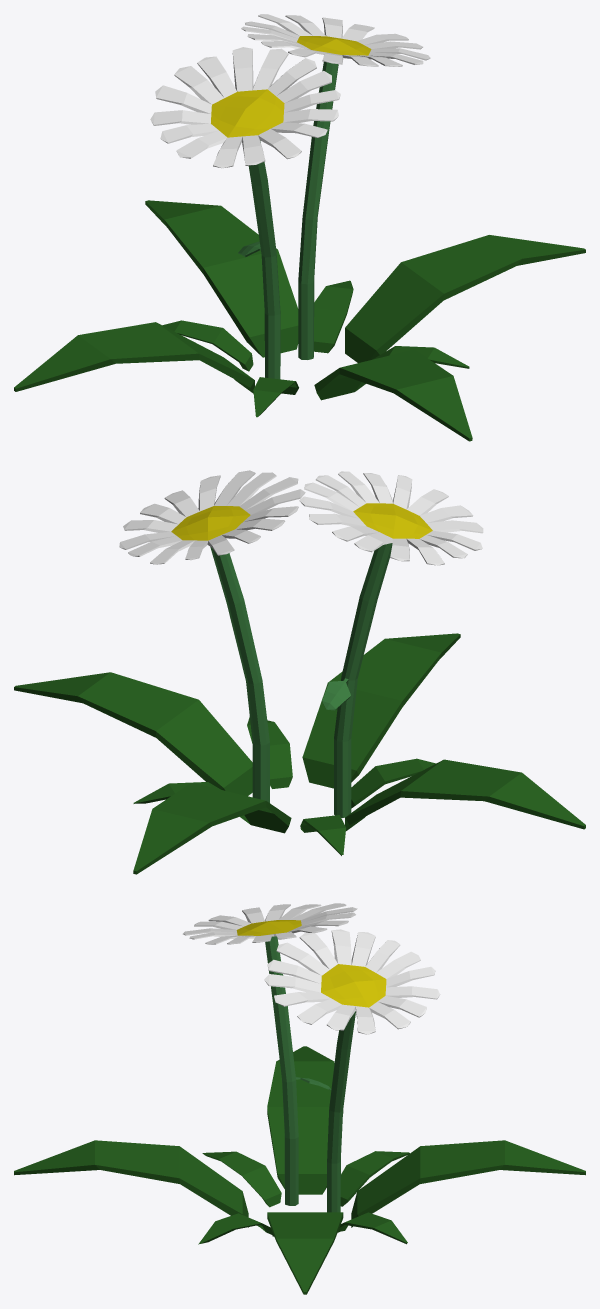
File: daisy.fbx
3 renders of one model, top to bottom at view 1: azimuth 30°, elevation 25°; view 2: azimuth 150°, elevation 25°; view 3: azimuth 270°, elevation 25°, orthographic. The views are drawn at different scales.
Parts seen in each view (by area): view 1: Cube.003; view 2: Cube.003; view 3: Cube.003.
Part boxes in pixels (x1,y1,x2,y2): Cube.003: (14, 14, 585, 441); Cube.003: (14, 470, 585, 874); Cube.003: (14, 903, 585, 1294).
Bounding box in the file's own units: 116 × 62.06 × 114.
